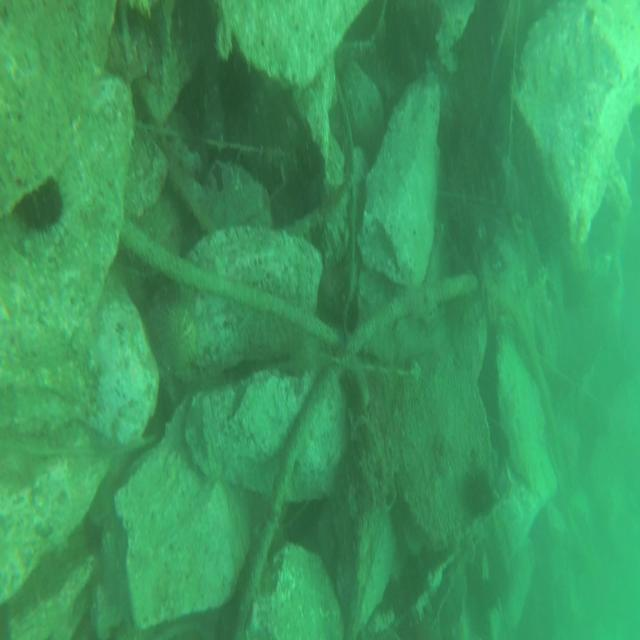echinus: (157, 296, 199, 374), (18, 177, 62, 240)
